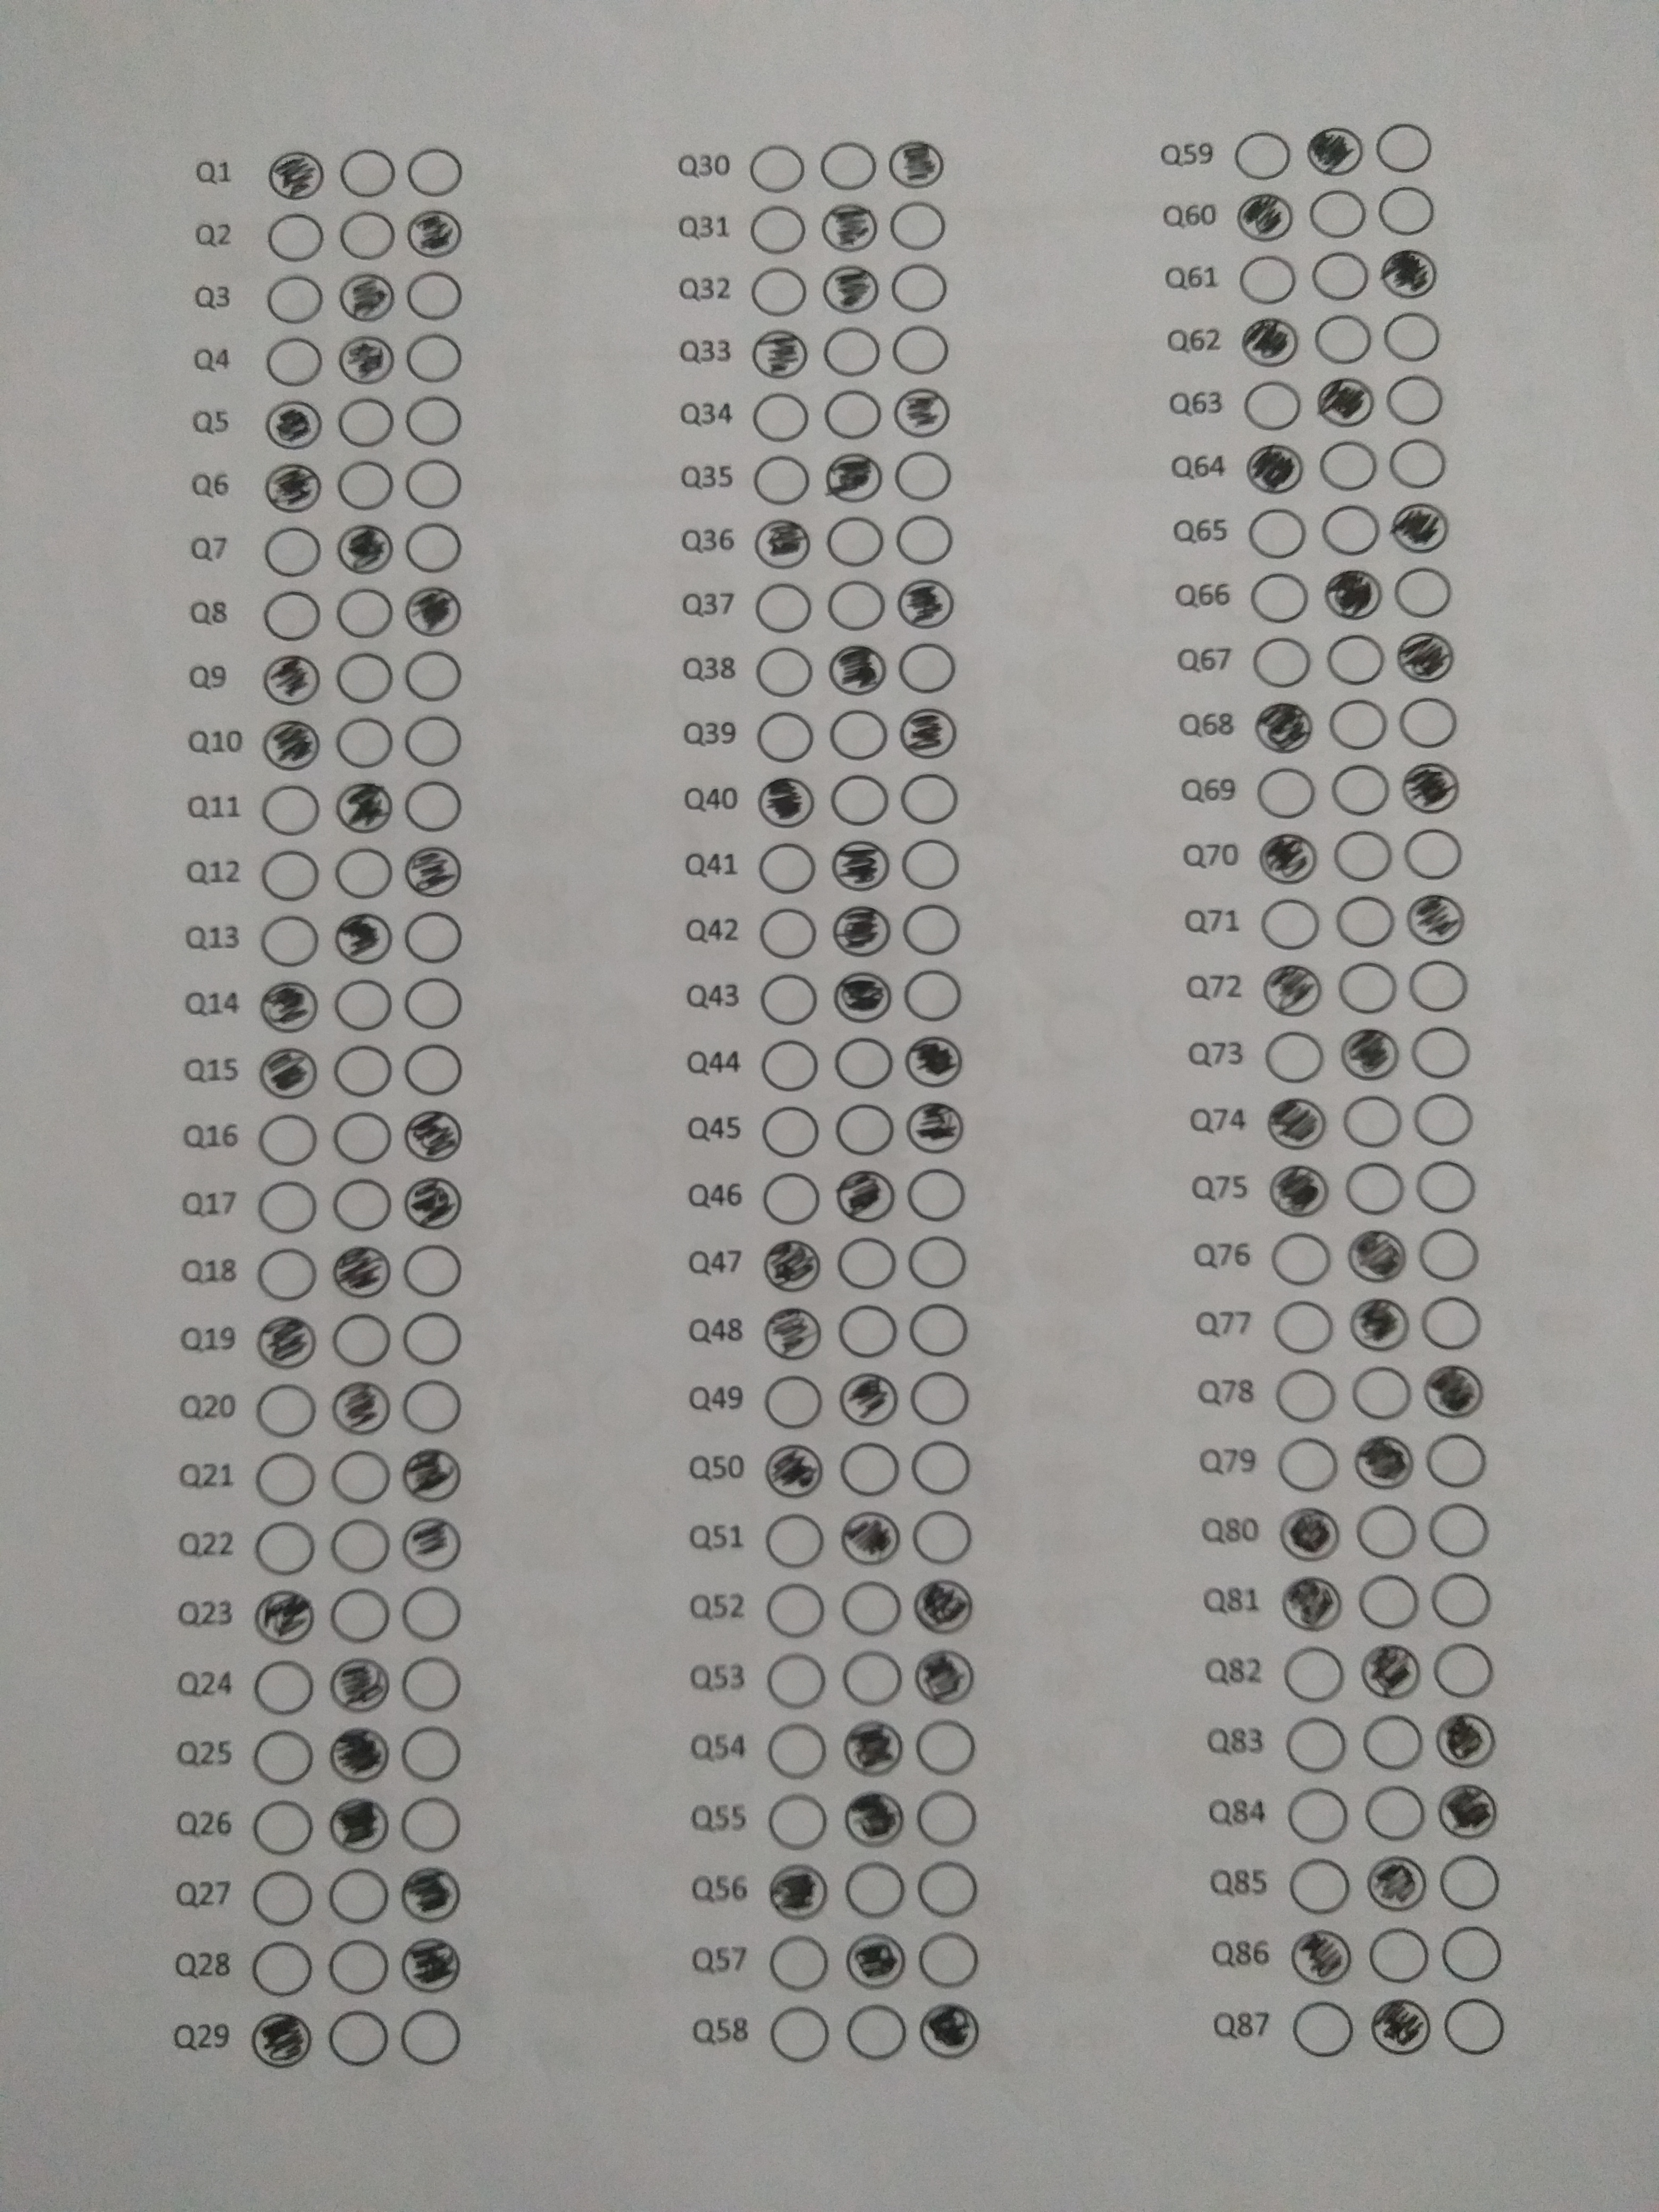not-c: (753, 578, 817, 634), (906, 1235, 971, 1291), (901, 900, 965, 956), (1391, 566, 1455, 622), (1284, 1717, 1349, 1773), (403, 648, 465, 704), (256, 1381, 319, 1437), (748, 388, 810, 444), (897, 770, 960, 826), (903, 1167, 965, 1223), (840, 1648, 903, 1703), (908, 1439, 971, 1494), (1330, 763, 1392, 819), (1255, 763, 1317, 819), (1272, 1230, 1335, 1285), (1340, 1092, 1403, 1148), (1364, 1785, 1427, 1841), (1284, 1646, 1347, 1702), (1429, 1571, 1492, 1627), (1420, 1294, 1483, 1350), (265, 272, 329, 326), (406, 145, 471, 199), (258, 914, 322, 968), (399, 1312, 464, 1366), (329, 1312, 394, 1366), (331, 1177, 396, 1231), (403, 1043, 467, 1097), (765, 2006, 829, 2060), (328, 1940, 392, 1994), (1288, 1789, 1352, 1843), (896, 512, 960, 566), (890, 448, 955, 502), (817, 138, 882, 192), (831, 770, 896, 824), (756, 709, 821, 763), (751, 643, 816, 697), (833, 1237, 897, 1291), (835, 1099, 899, 1153), (755, 972, 819, 1026), (762, 1723, 826, 1777), (1317, 441, 1382, 495), (1243, 376, 1307, 430), (1312, 310, 1377, 364), (1373, 183, 1438, 237), (1401, 826, 1466, 880), (1415, 1158, 1480, 1212), (1412, 1092, 1476, 1146), (1406, 958, 1471, 1012), (1338, 960, 1403, 1014), (1331, 827, 1396, 881), (1363, 1714, 1427, 1768), (338, 146, 401, 200), (403, 521, 465, 575), (331, 1043, 394, 1097), (265, 528, 328, 582), (399, 456, 462, 510), (335, 456, 397, 510), (404, 394, 467, 448), (336, 395, 399, 449), (408, 331, 471, 385), (261, 333, 324, 387), (401, 268, 464, 322), (335, 211, 397, 265), (263, 211, 326, 265), (403, 977, 465, 1031), (331, 979, 394, 1033), (406, 913, 469, 967), (335, 846, 397, 900), (261, 848, 324, 902), (404, 779, 467, 833), (261, 782, 324, 836), (403, 712, 465, 766), (331, 714, 394, 768), (336, 653, 399, 707), (333, 587, 396, 641), (261, 587, 324, 641), (767, 1937, 829, 1991), (328, 1587, 390, 1641), (328, 1517, 390, 1571), (254, 1519, 317, 1573), (329, 1449, 392, 1503), (254, 1453, 317, 1507), (401, 1379, 464, 1433), (403, 1242, 465, 1296), (254, 1245, 317, 1299), (254, 1177, 317, 1231), (333, 1109, 396, 1163), (258, 1111, 321, 1165), (845, 2005, 908, 2059), (249, 1942, 312, 1996), (247, 1872, 310, 1926), (251, 1801, 314, 1855), (249, 1731, 312, 1785), (326, 2010, 389, 2064), (399, 1585, 462, 1639), (326, 1867, 389, 1921), (397, 2012, 460, 2066), (399, 1796, 462, 1850), (399, 1726, 462, 1780), (399, 1656, 462, 1710), (253, 1660, 315, 1714), (823, 514, 885, 568), (751, 453, 814, 507), (821, 387, 884, 441), (892, 319, 955, 373), (821, 322, 884, 376), (889, 258, 951, 312), (746, 263, 809, 317), (889, 195, 951, 249), (746, 202, 809, 256), (746, 141, 809, 195), (756, 907, 819, 961), (896, 836, 958, 890), (758, 841, 821, 895), (829, 707, 892, 761), (896, 637, 958, 691), (828, 578, 890, 632), (762, 1169, 824, 1223), (762, 1103, 824, 1157), (831, 1036, 894, 1090), (755, 1038, 817, 1092), (903, 968, 965, 1022), (915, 1719, 978, 1773), (765, 1651, 828, 1705), (836, 1580, 899, 1634), (910, 1508, 972, 1562), (763, 1581, 826, 1635), (767, 1514, 829, 1568), (906, 1371, 969, 1425), (840, 1442, 903, 1496), (762, 1372, 824, 1426), (908, 1303, 971, 1357), (836, 1303, 899, 1357), (1439, 1857, 1502, 1911), (1291, 1860, 1354, 1914), (1441, 1928, 1504, 1982), (1366, 1930, 1429, 1984), (1443, 1998, 1506, 2052), (1293, 2003, 1356, 2057), (915, 1932, 978, 1986), (915, 1862, 978, 1916), (843, 1862, 906, 1916), (913, 1792, 976, 1846), (767, 1794, 829, 1848), (1384, 373, 1446, 427), (1378, 307, 1441, 361), (1310, 251, 1373, 305), (1236, 251, 1298, 305), (1307, 185, 1370, 239), (1373, 120, 1436, 174), (1230, 129, 1293, 183), (1396, 695, 1459, 749), (1324, 695, 1387, 749), (1324, 634, 1387, 688), (1248, 634, 1310, 688), (1246, 570, 1309, 624), (1317, 503, 1380, 557), (1249, 507, 1312, 561), (1385, 437, 1448, 491), (1270, 1299, 1333, 1353), (1417, 1228, 1480, 1282), (1344, 1160, 1406, 1214), (1410, 1028, 1473, 1082), (1263, 1029, 1326, 1083), (1335, 892, 1398, 946), (1260, 897, 1323, 951), (1431, 1644, 1493, 1698), (1358, 1573, 1420, 1627), (1427, 1505, 1490, 1559), (1356, 1503, 1419, 1557), (1427, 1433, 1490, 1487), (1277, 1439, 1340, 1493), (1349, 1366, 1412, 1420), (1272, 1367, 1335, 1421)
taken-c: (1436, 1778, 1502, 1843), (840, 1716, 904, 1780), (767, 1858, 829, 1925), (249, 2010, 314, 2071), (1364, 1855, 1429, 1916), (1399, 758, 1464, 819), (1368, 1998, 1434, 2057), (1279, 1575, 1345, 1634), (399, 1865, 462, 1926), (918, 2000, 979, 2062), (1434, 1710, 1497, 1771), (401, 1172, 465, 1231), (329, 1378, 394, 1437), (329, 1656, 394, 1716), (911, 1648, 976, 1707), (842, 1789, 906, 1848), (1352, 1433, 1417, 1493), (251, 1588, 317, 1646), (913, 1576, 974, 1637), (763, 1440, 824, 1501), (399, 1514, 462, 1573), (329, 1726, 392, 1785), (328, 1794, 390, 1853), (1290, 1928, 1352, 1987), (1361, 1641, 1424, 1700), (1279, 1505, 1342, 1564), (1347, 1228, 1410, 1287), (1267, 1094, 1330, 1153), (256, 977, 321, 1035), (845, 1932, 910, 1989), (1349, 1298, 1413, 1355), (1269, 1163, 1333, 1221), (399, 1935, 460, 1994), (1424, 1362, 1485, 1421), (1262, 961, 1323, 1021), (1394, 627, 1455, 686), (840, 1510, 903, 1568), (1258, 831, 1321, 888), (403, 1108, 464, 1165), (403, 1446, 464, 1503), (763, 1305, 824, 1362), (835, 1167, 896, 1224), (1340, 1026, 1401, 1083), (260, 718, 322, 773), (823, 451, 885, 507), (836, 1372, 899, 1428), (1237, 315, 1302, 369), (828, 641, 887, 698), (753, 516, 812, 573), (1406, 892, 1466, 949), (267, 148, 328, 204), (335, 331, 396, 387), (265, 395, 326, 451), (335, 521, 396, 577), (333, 909, 394, 965), (333, 1244, 394, 1299), (762, 1238, 823, 1294), (903, 1035, 964, 1090), (829, 902, 890, 958), (833, 970, 894, 1026), (1389, 500, 1450, 556), (1314, 374, 1375, 430), (261, 462, 324, 516), (254, 1315, 317, 1369), (1253, 702, 1316, 756), (1323, 568, 1385, 622), (755, 775, 814, 831), (335, 780, 396, 834), (258, 1047, 319, 1101), (831, 838, 892, 892), (404, 582, 462, 637), (406, 843, 464, 899), (1246, 441, 1303, 496), (338, 270, 397, 324), (896, 578, 955, 632), (823, 263, 882, 317), (821, 200, 880, 254), (887, 138, 946, 192), (906, 1101, 965, 1155), (404, 207, 465, 260), (261, 655, 322, 707), (899, 707, 960, 759), (890, 387, 951, 439), (1378, 249, 1439, 301), (1236, 192, 1297, 244), (751, 329, 810, 381), (1307, 125, 1366, 178)
